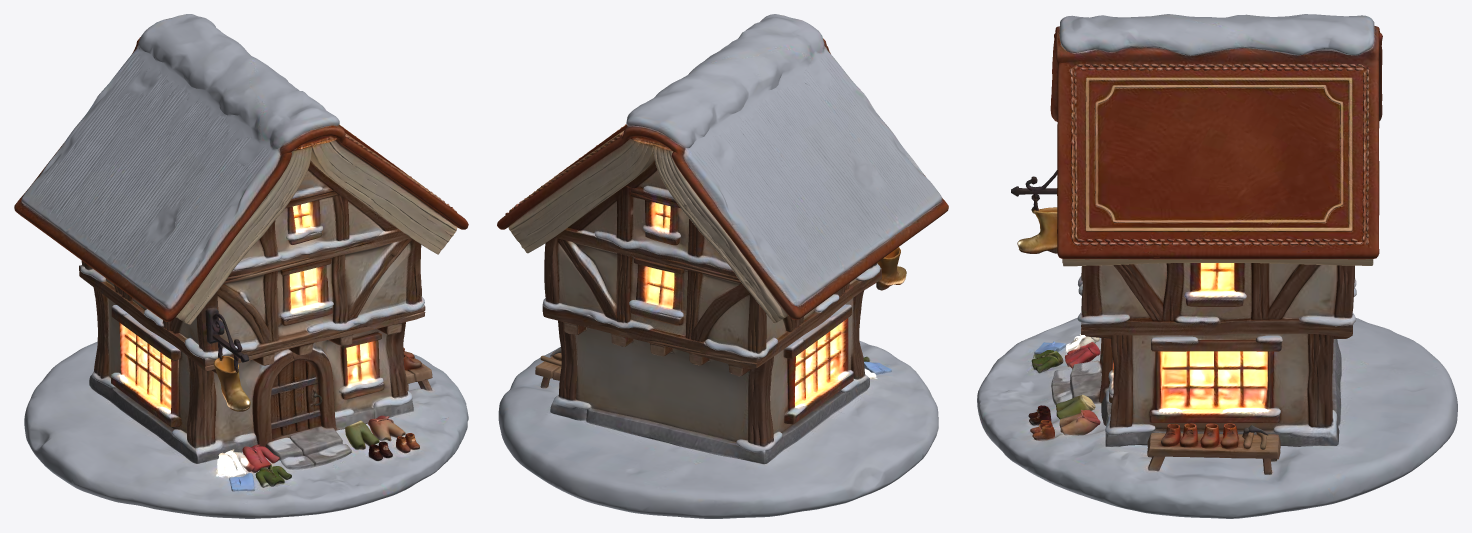
Rendered from elves-shoemaker.glb.
3 views of the same model, side by side, from view 1: azimuth 30°, elevation 25°; view 2: azimuth 150°, elevation 25°; view 3: azimuth 270°, elevation 25° (orthographic). The views are drawn at different scales.
Visible parts, largest first — view 1: model; view 2: model; view 3: model.
Boxes of the visible parts, box(x1,y1,x2,y2) form: model: box(14, 14, 468, 518); model: box(497, 14, 948, 518); model: box(977, 14, 1457, 518).
Bounding box in the file's own units: 1.89 × 1.74 × 1.9.
Materials: 1 (1 with a texture image).
